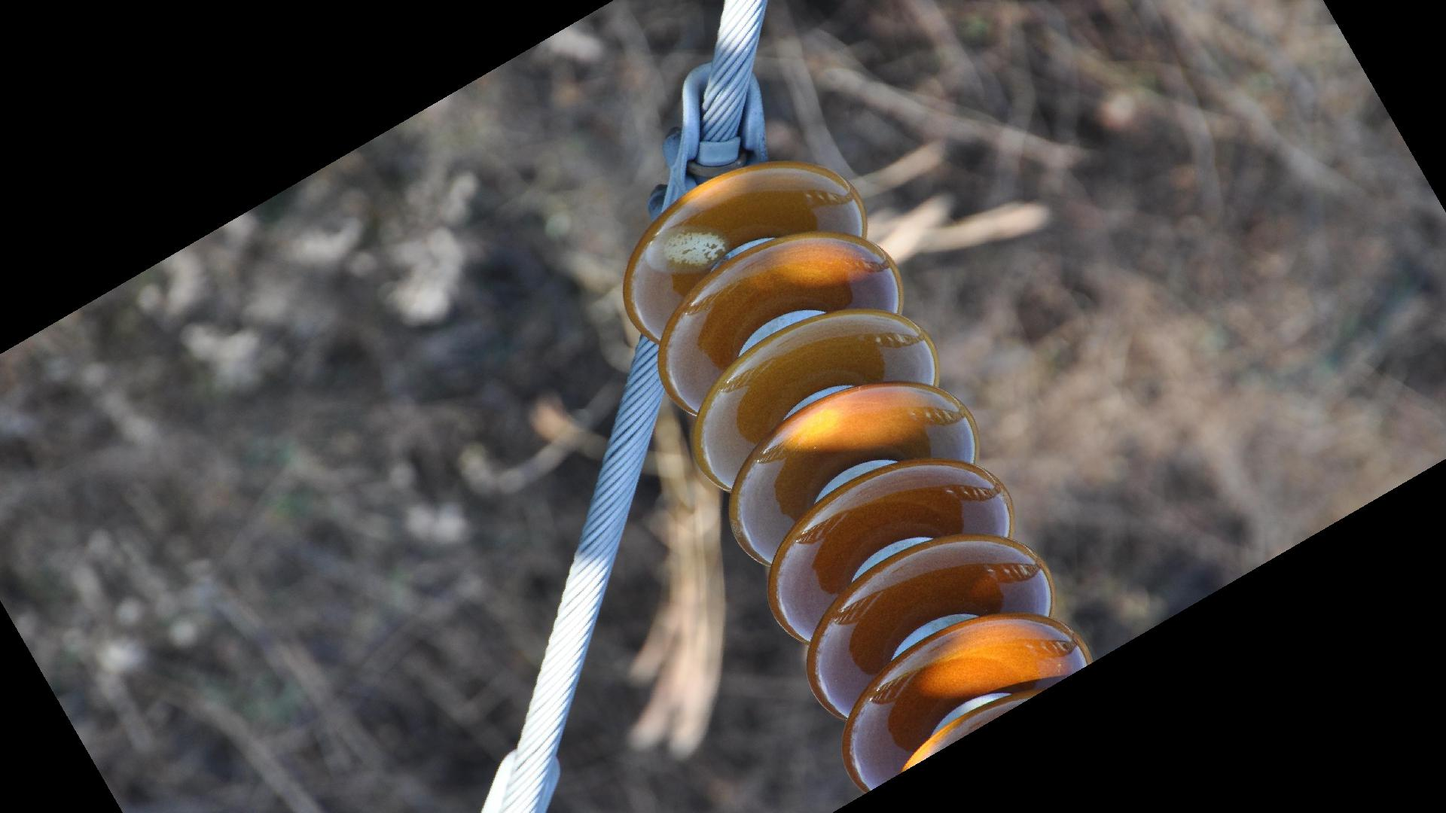insulator: (615, 155, 1100, 793)
insulator_flashover: (644, 224, 731, 277)
